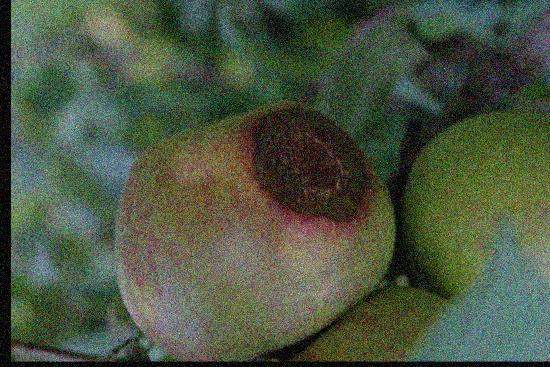rotten apple: (108, 96, 405, 360)
